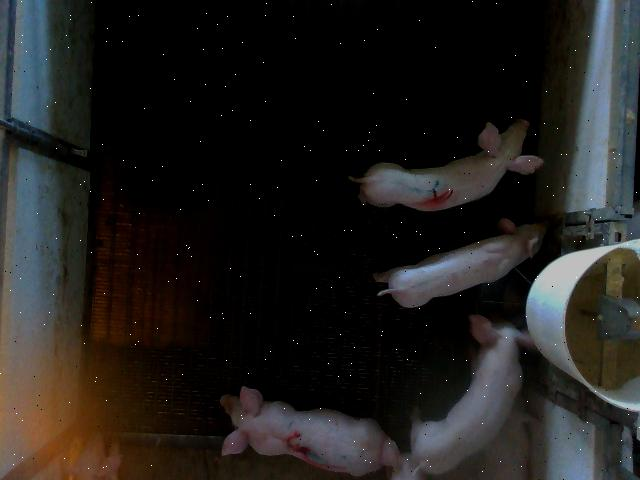pig-3: (220, 386, 385, 475)
pig-4: (349, 119, 542, 211)
